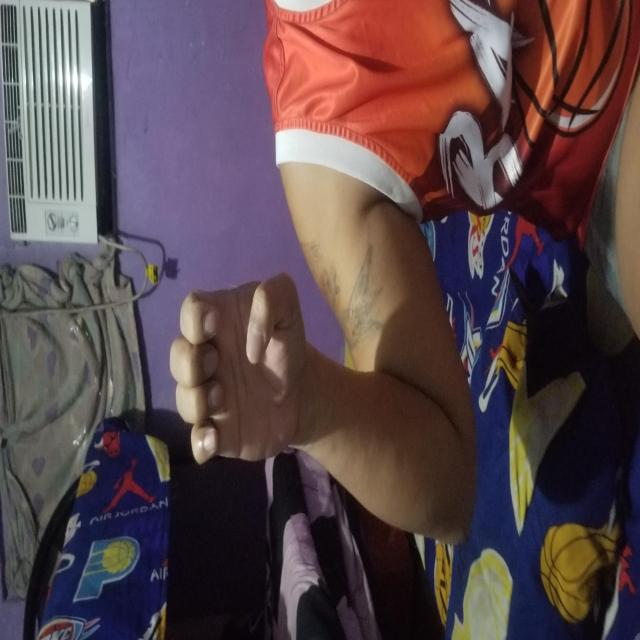E: (180, 169, 370, 306)
